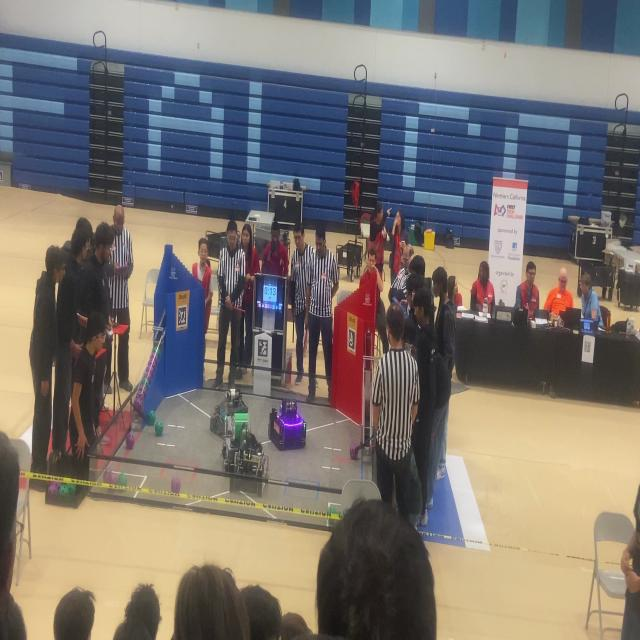artifact_green: (133, 392, 143, 416), (103, 469, 116, 484), (48, 482, 60, 494), (117, 473, 127, 486), (155, 421, 163, 436), (147, 410, 155, 425), (66, 484, 76, 495), (59, 484, 68, 496), (327, 505, 339, 514), (66, 484, 74, 497), (140, 377, 149, 388), (144, 413, 152, 425), (59, 483, 68, 493), (142, 386, 147, 401), (140, 376, 147, 386), (57, 484, 63, 495), (151, 346, 157, 356), (327, 505, 334, 513), (71, 485, 77, 494), (145, 379, 150, 389), (153, 347, 159, 354)
artifact_purple: (133, 394, 142, 415), (171, 477, 181, 493), (103, 470, 114, 484), (48, 482, 60, 494), (117, 472, 127, 486), (146, 410, 155, 425), (126, 433, 134, 449), (350, 445, 358, 460), (136, 386, 143, 401), (109, 471, 117, 484), (148, 368, 154, 384), (149, 360, 156, 372), (137, 385, 143, 398), (151, 360, 158, 371), (144, 366, 150, 377), (142, 386, 147, 399), (142, 390, 145, 408), (146, 360, 151, 370)
